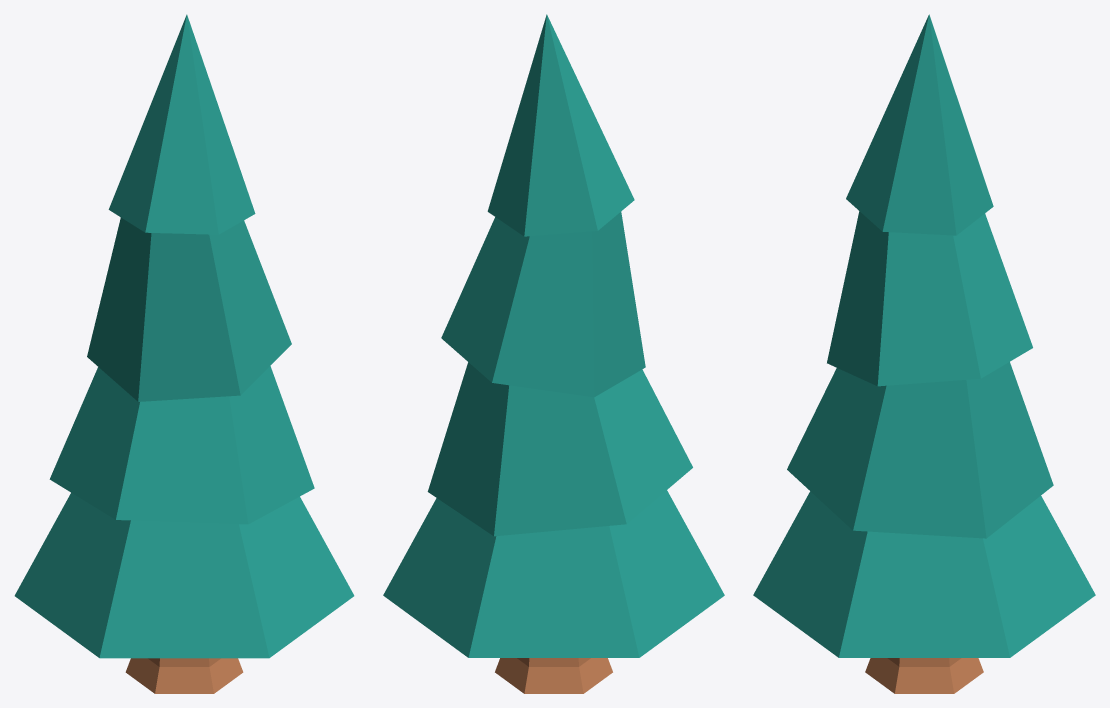
The model's file is treePine.dae.
3 renders of one model, left to right at view 1: azimuth 30°, elevation 25°; view 2: azimuth 150°, elevation 25°; view 3: azimuth 270°, elevation 25°, orthographic.
Visible parts, largest first — view 1: treePine; view 2: treePine; view 3: treePine.
Boxes of the visible parts, x1=… form: treePine: x1=14, y1=14, x2=354, y2=693; treePine: x1=383, y1=14, x2=724, y2=693; treePine: x1=753, y1=14, x2=1095, y2=693.
Size of the model in its own units: 0.651 by 1.6 by 0.7517.
